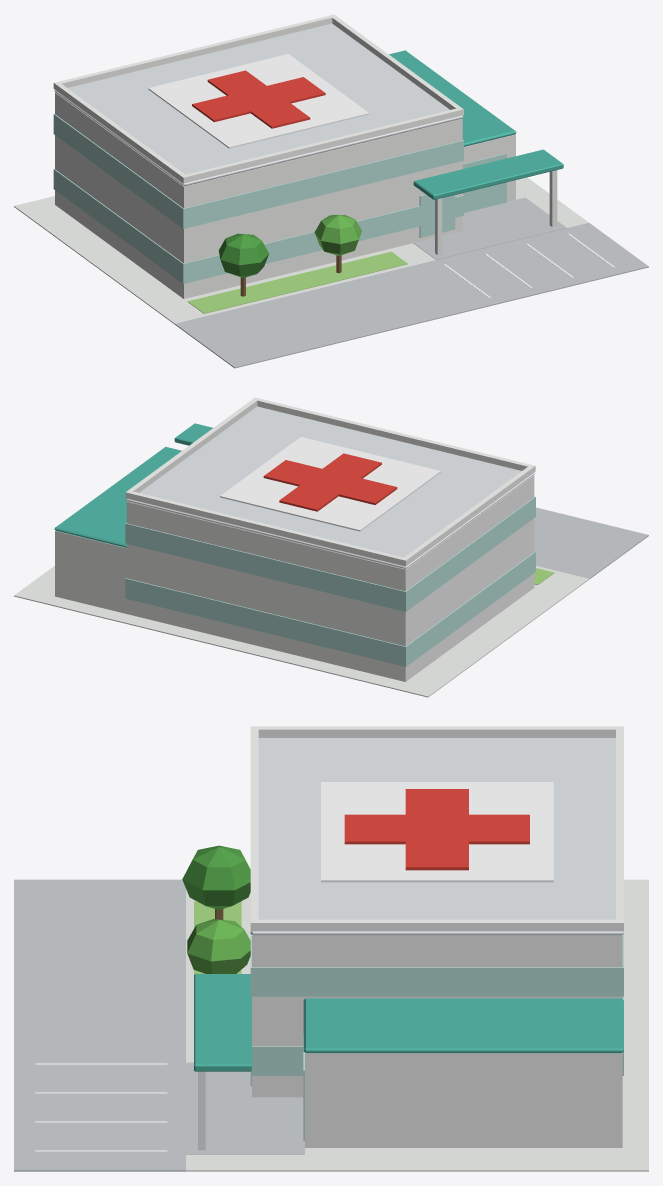
The model's file is clinic.glb.
3 renders of one model, top to bottom at view 1: azimuth 30°, elevation 25°; view 2: azimuth 150°, elevation 25°; view 3: azimuth 270°, elevation 25°, orthographic. The views are drawn at different scales.
Visible parts, largest first — view 1: clinic; view 2: clinic; view 3: clinic.
Boxes of the visible parts, bbox=[...] form: clinic: bbox=[14, 14, 648, 368]; clinic: bbox=[14, 397, 648, 697]; clinic: bbox=[14, 726, 648, 1171].
Bounding box in the file's own units: 26 × 7.37 × 24.
